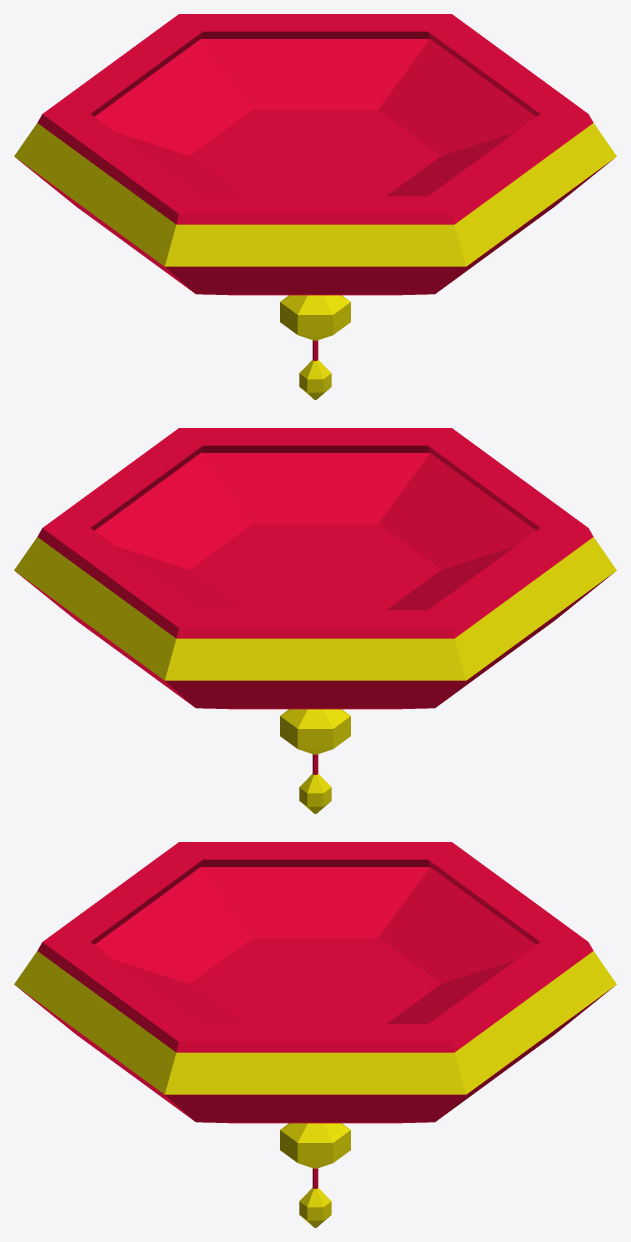
The model's file is GuideLower.fbx.
3 views of the same model, one above another, from view 1: azimuth 30°, elevation 25°; view 2: azimuth 150°, elevation 25°; view 3: azimuth 270°, elevation 25° (orthographic).
Visible parts, largest first — view 1: Circle; view 2: Circle; view 3: Circle.
Part boxes in pixels (<box>): Circle: <box>14,14,616,399</box>; Circle: <box>14,428,616,813</box>; Circle: <box>14,842,616,1227</box>.
Size of the model in its own units: 130 by 78.07 by 150.
